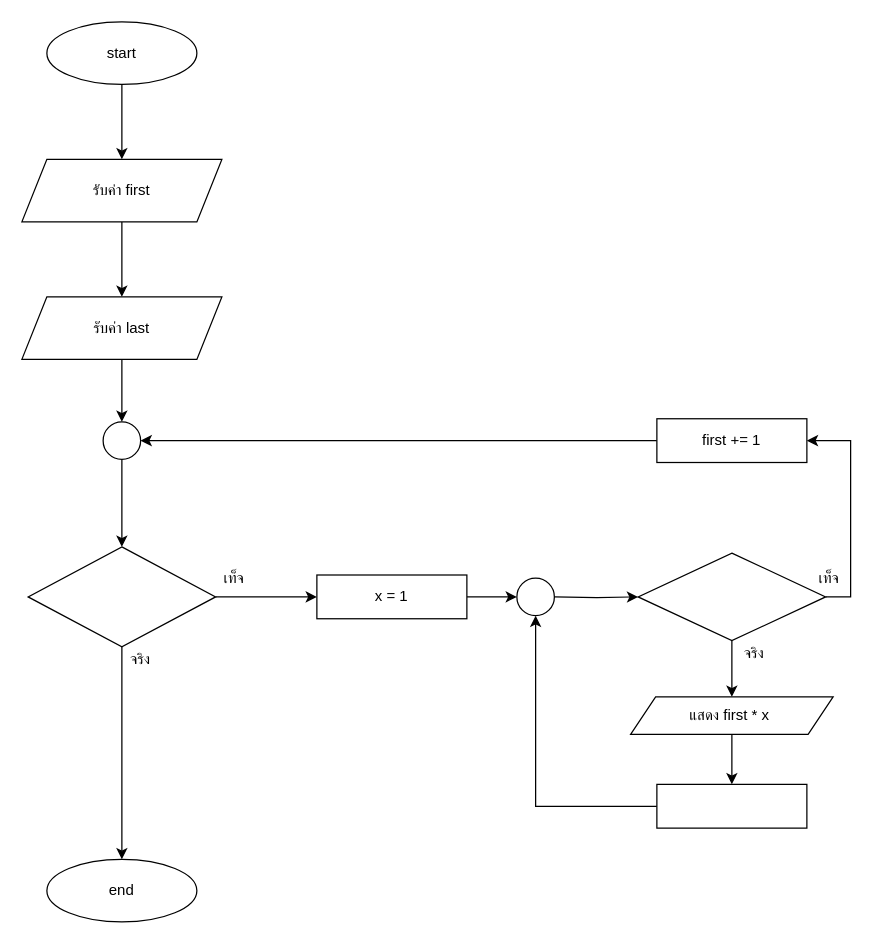
This 889x944 diagram has some shape labels left out. The centre of each missing label's shape, as x and y in pixels:
"first == last" goes at [121,596].
"x += 1" goes at [731,805].
"x <= 9" goes at [731,596].
